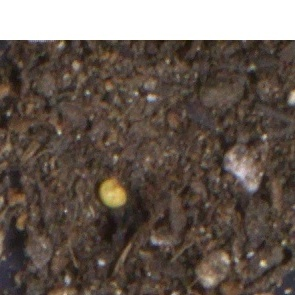chilli seed: (97, 175, 128, 209)
